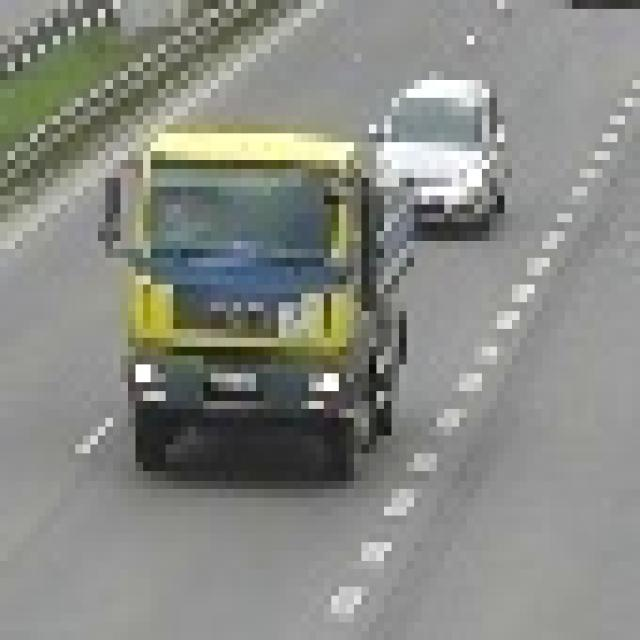truck: (91, 108, 415, 446)
